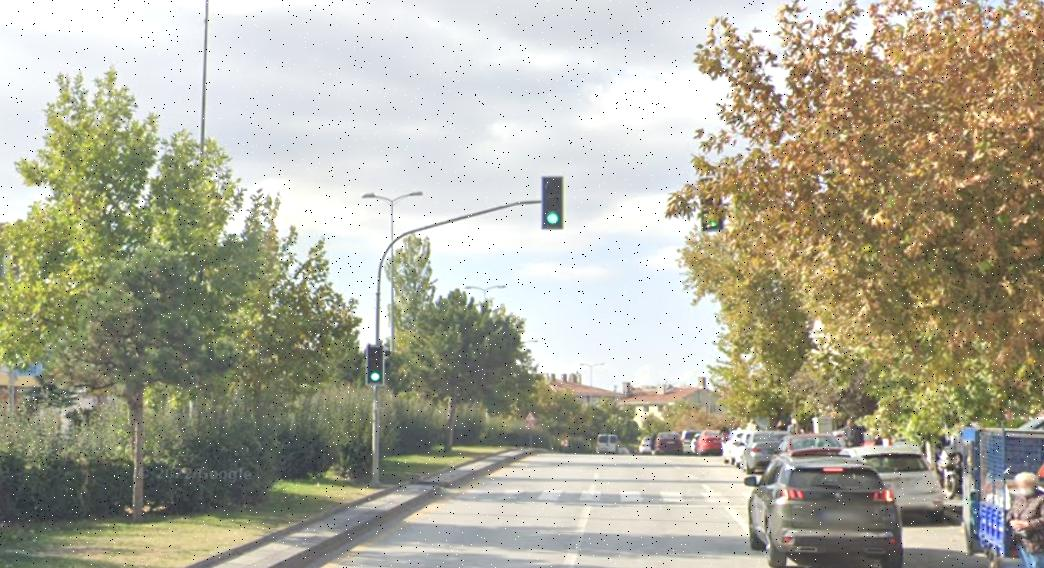greenlight: (540, 176, 563, 229), (366, 344, 384, 384)
